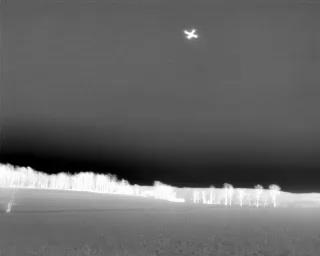DRONE: (180, 24, 203, 45)
